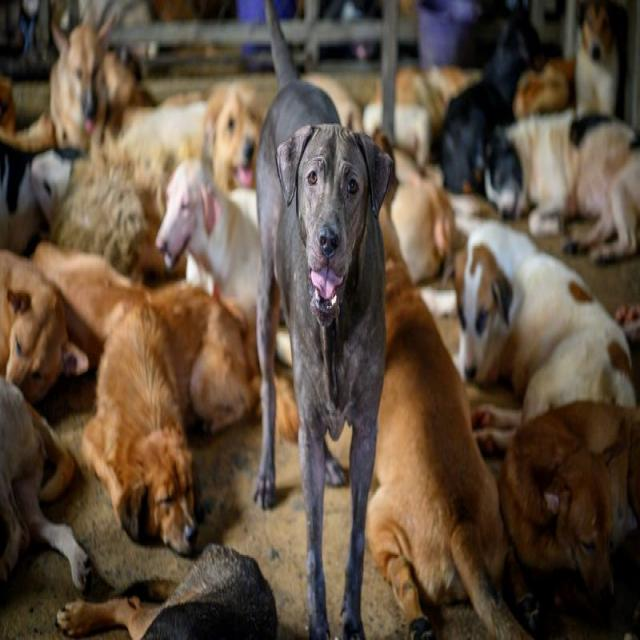laying down: (82, 274, 270, 554), (447, 211, 640, 429), (498, 395, 640, 616), (479, 114, 640, 264)
